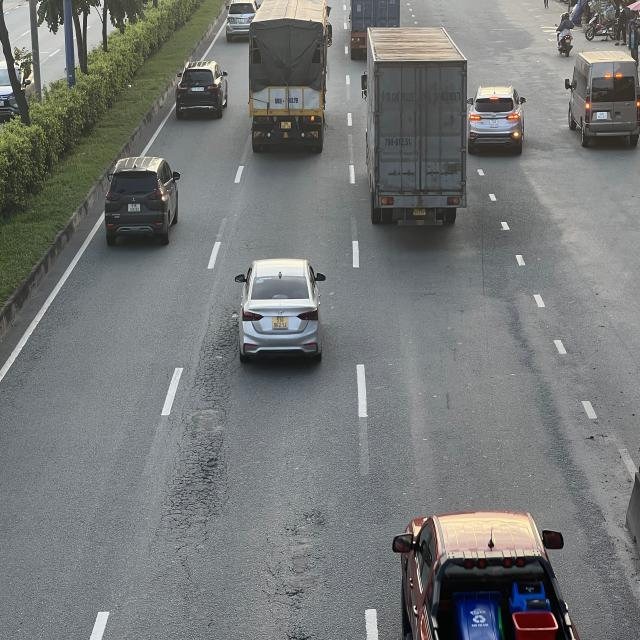car: (390, 510, 570, 639), (238, 257, 326, 365), (103, 158, 181, 248), (467, 83, 527, 155), (175, 58, 230, 118), (225, 0, 258, 40)
container: (366, 27, 470, 231), (348, 0, 401, 58)
truck: (249, 2, 332, 152)
van: (567, 49, 640, 148)
